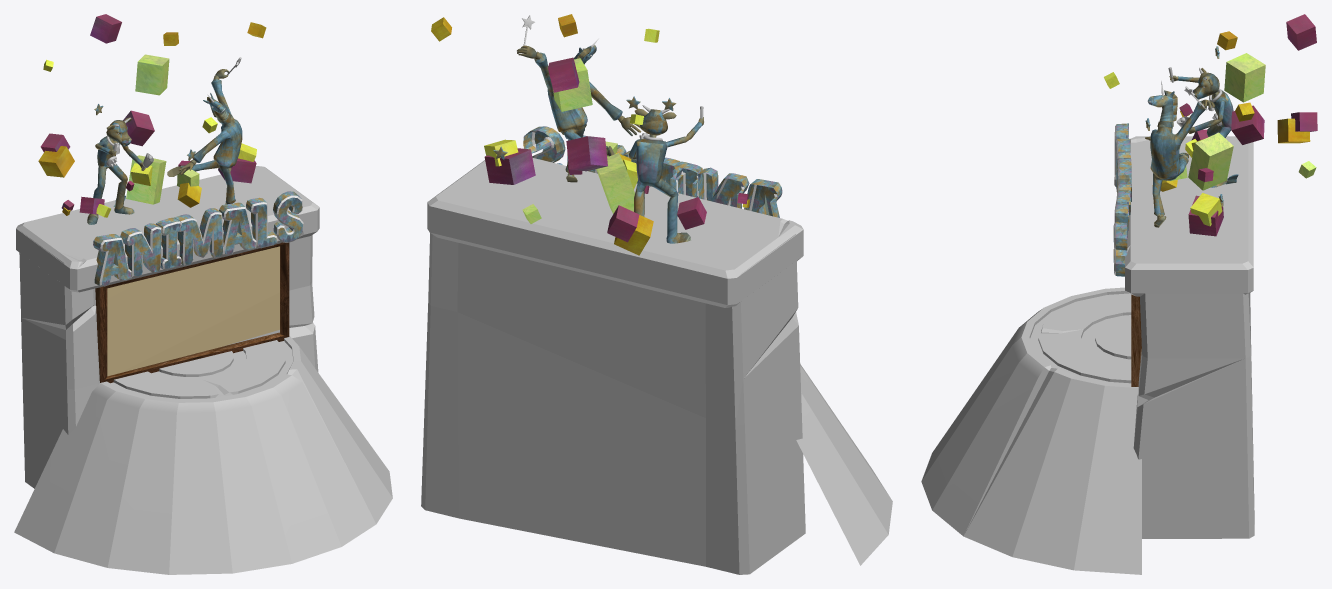
File: Str_Stand_Animals_01_Art.fbx
3 renders of one model, left to right at view 1: azimuth 30°, elevation 25°; view 2: azimuth 150°, elevation 25°; view 3: azimuth 270°, elevation 25°, orthographic. The views are drawn at different scales.
Parts seen in each view (by area): view 1: Str_Stand_Animals_01; view 2: Str_Stand_Animals_01; view 3: Str_Stand_Animals_01.
Boxes of the visible parts, left/top/right/bottom form: Str_Stand_Animals_01: left=14, top=14, right=392, bottom=574; Str_Stand_Animals_01: left=421, top=14, right=892, bottom=574; Str_Stand_Animals_01: left=921, top=14, right=1317, bottom=574.
Bounding box in the file's own units: 1541 × 1767 × 1383.
